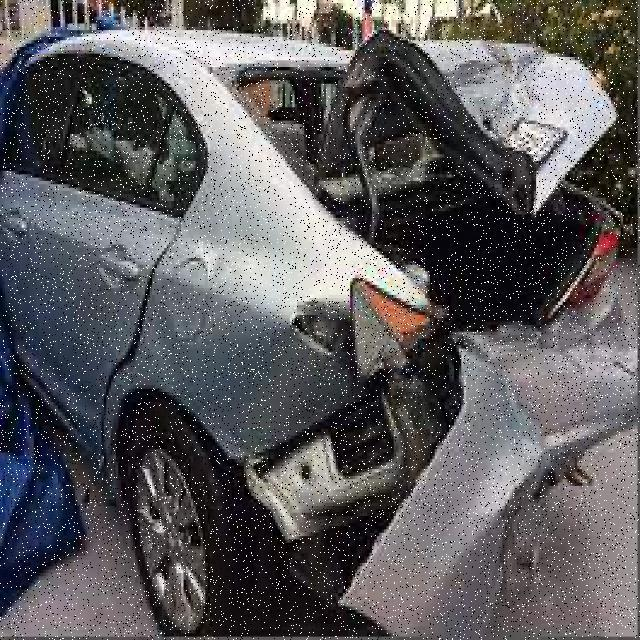quaterpanel-dent: (128, 221, 406, 509)
